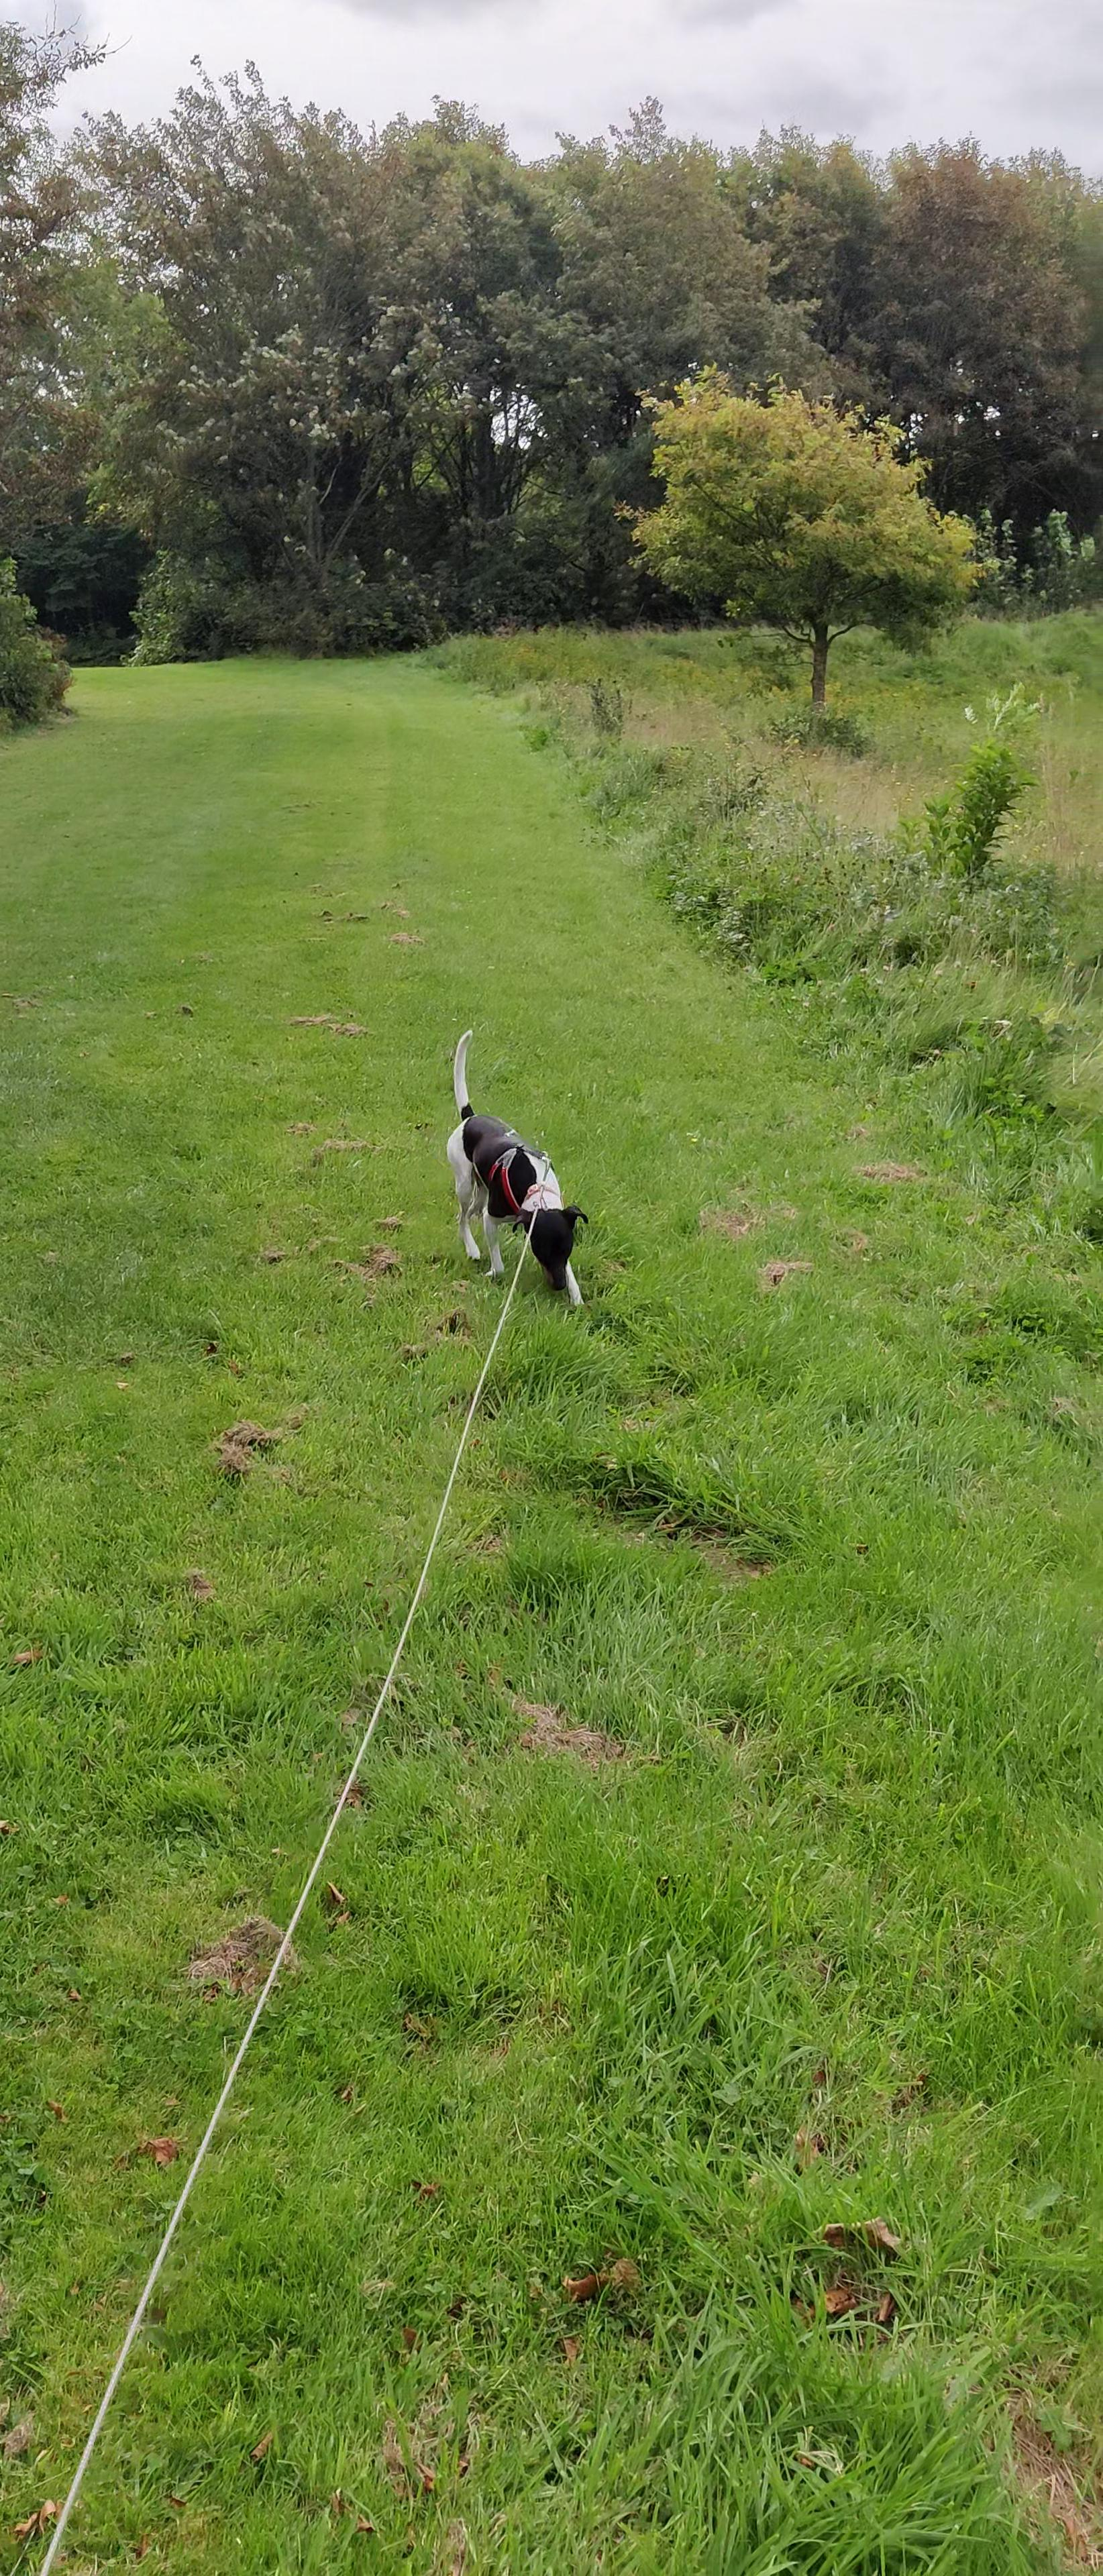Dog: (432, 1023, 595, 1308)
